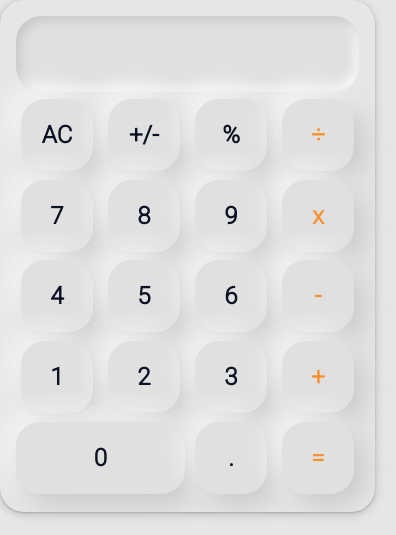
Scenario: Calculator › returns the correct result after the 1 button is clicked
What coordinates should you click on to do the following:
click the button "1"
I would click on:
 (57, 377)
Its box is [21, 341, 93, 413].
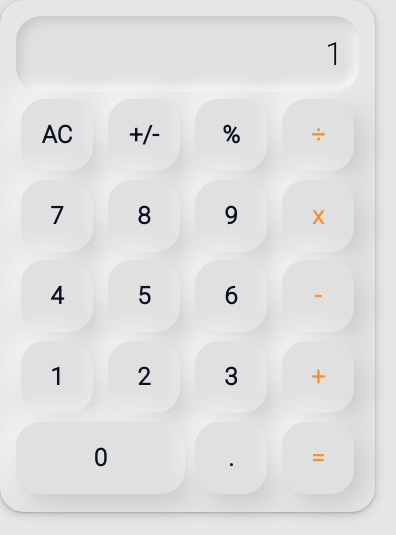
Expected: the text "1" is shown, [16, 16, 359, 92]
